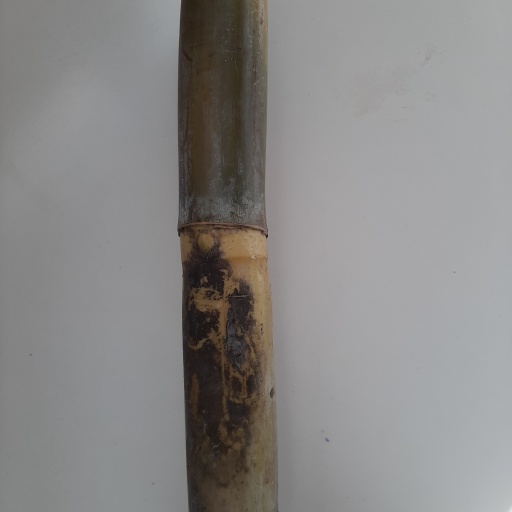Bud: (194, 231, 218, 259)
